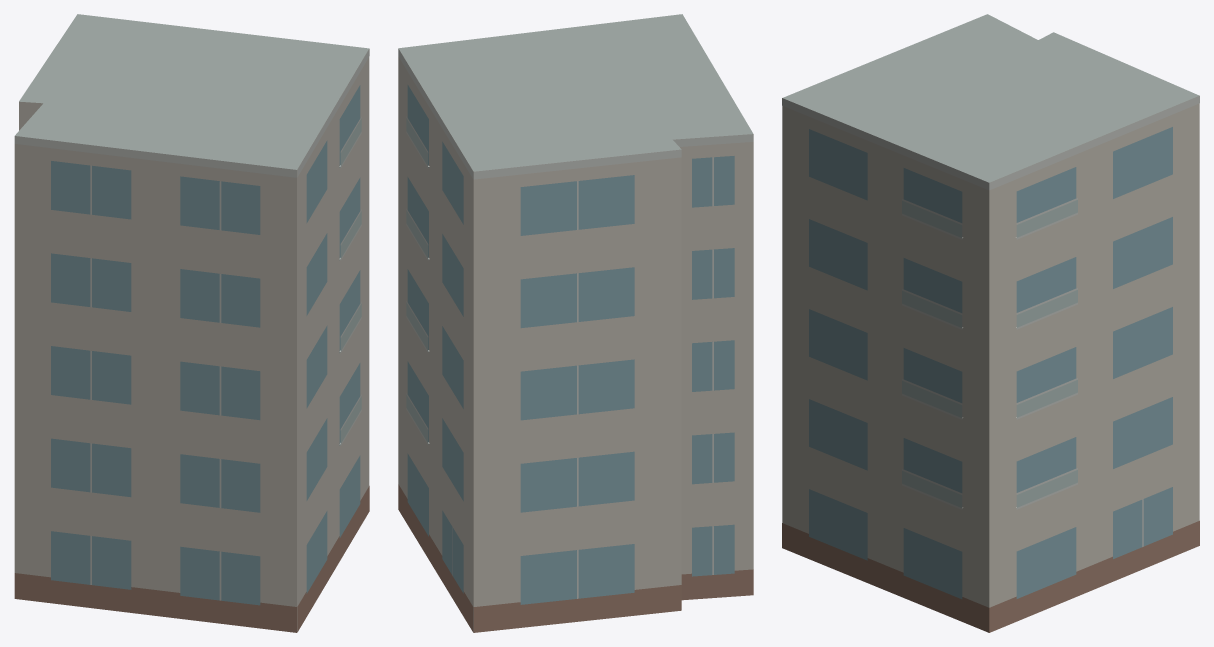
The model's file is survey-upis-32993585.glb.
3 renders of one model, left to right at view 1: azimuth 30°, elevation 25°; view 2: azimuth 150°, elevation 25°; view 3: azimuth 270°, elevation 25°, orthographic. The views are drawn at different scales.
Parts seen in each view (by area): view 1: survey-upis-32993585.tmp; view 2: survey-upis-32993585.tmp; view 3: survey-upis-32993585.tmp.
Part boxes in pixels (x1=…): survey-upis-32993585.tmp: x1=14, y1=14, x2=369, y2=632; survey-upis-32993585.tmp: x1=398, y1=14, x2=753, y2=632; survey-upis-32993585.tmp: x1=782, y1=14, x2=1199, y2=632.
Bounding box in the file's own units: 11.51 × 14.3 × 12.03.
